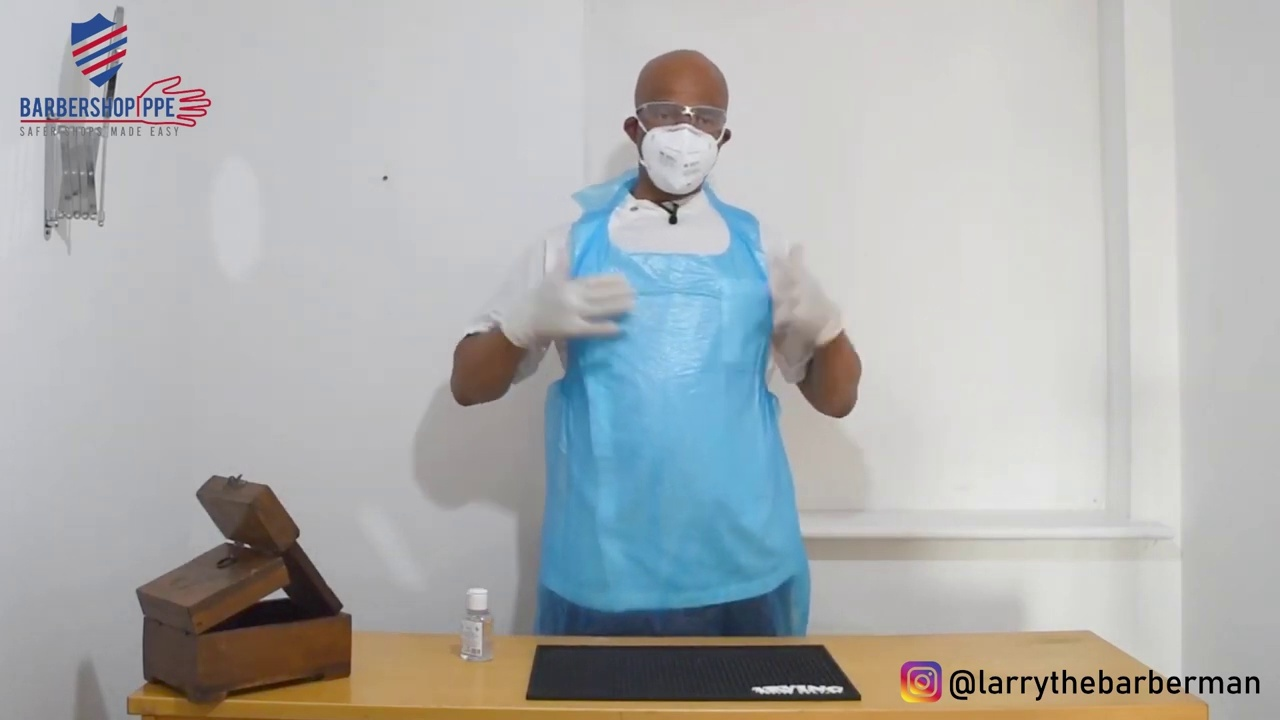Apron: (521, 165, 817, 630)
Glove: (725, 214, 873, 369), (508, 237, 642, 373)
Mask: (604, 112, 745, 204)
No_Hairnet: (625, 40, 739, 128)
